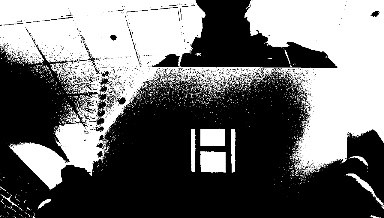H: (189, 127, 236, 171)
